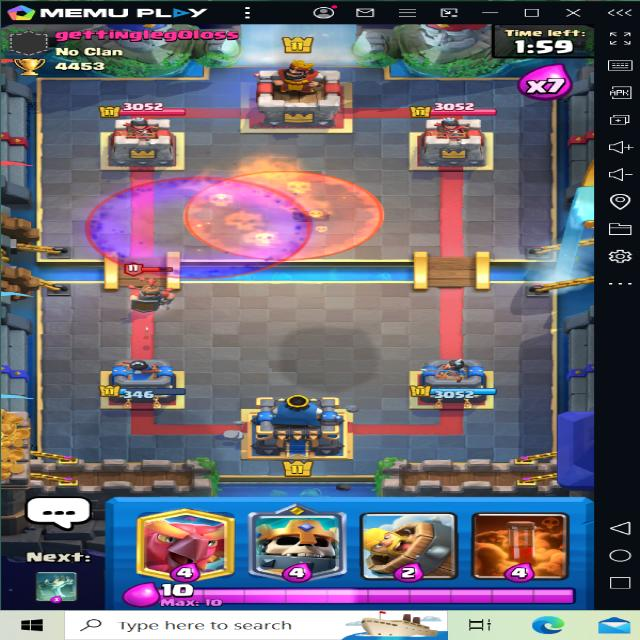Graveyard: (90, 173, 312, 276)
Poison: (186, 165, 375, 258)
Royaldelivery: (290, 199, 336, 228)
Royalrecruits: (124, 266, 178, 316)
